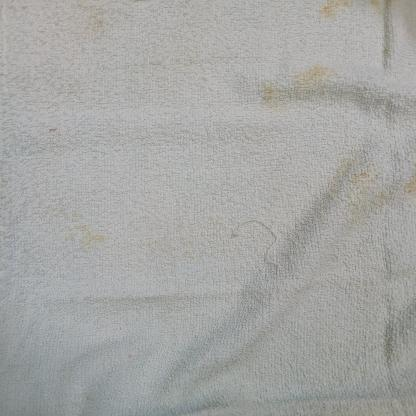spot: (330, 138, 416, 227), (289, 55, 342, 107), (59, 209, 108, 249), (255, 66, 290, 114), (304, 1, 407, 17), (74, 7, 113, 33), (172, 54, 200, 69), (49, 126, 63, 136), (231, 230, 241, 243), (125, 352, 136, 360), (358, 368, 367, 374)
